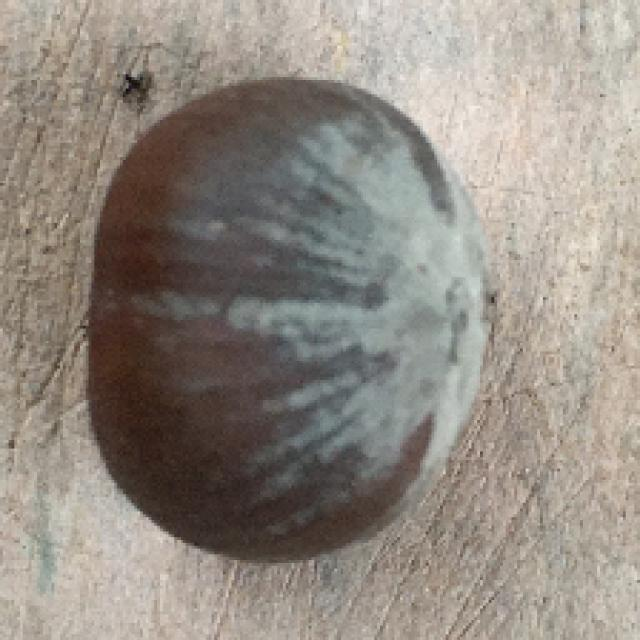damagedHazelnut: (74, 77, 495, 567)
